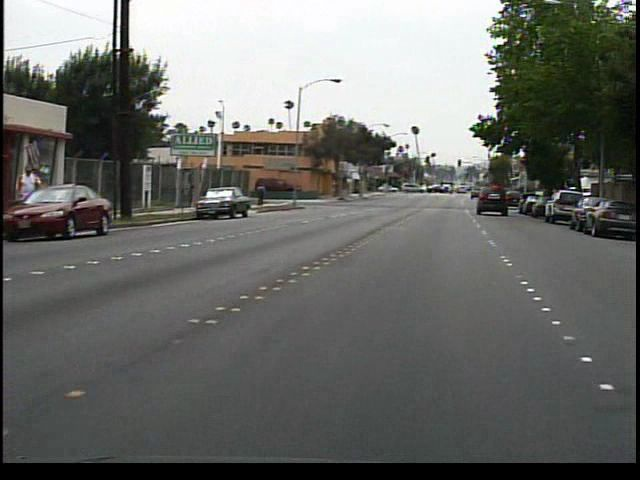person: (22, 161, 53, 234), (259, 180, 275, 211)
